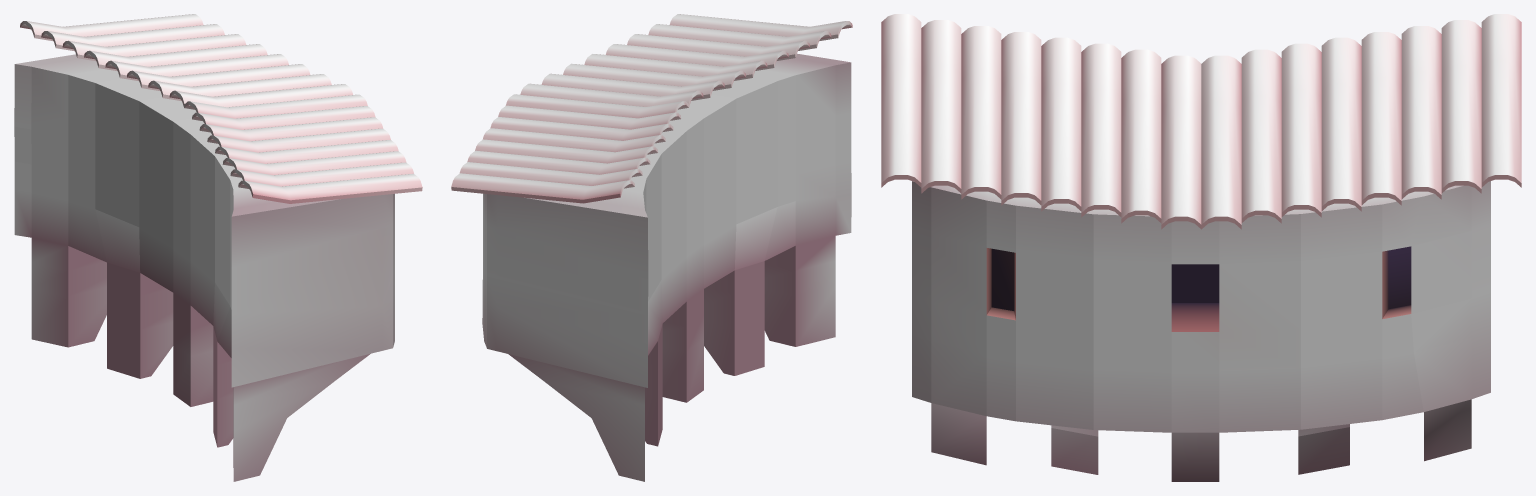
Rendered from CityHouse_curved_02.fbx.
3 renders of one model, left to right at view 1: azimuth 30°, elevation 25°; view 2: azimuth 150°, elevation 25°; view 3: azimuth 270°, elevation 25°, orthographic. The views are drawn at different scales.
Parts seen in each view (by area): view 1: house, roof; view 2: house, roof; view 3: house, roof.
Boxes of the visible parts, left/top/right/bottom form: house: left=14, top=54, right=394, bottom=481; roof: left=20, top=14, right=422, bottom=203; house: left=482, top=53, right=851, bottom=481; roof: left=451, top=14, right=852, bottom=203; house: left=912, top=181, right=1490, bottom=481; roof: left=881, top=14, right=1521, bottom=229.
Bounding box in the file's own units: 469 × 593 × 803.
